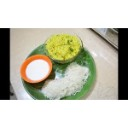idiyappam: (66, 65, 88, 92), (43, 81, 64, 98)
